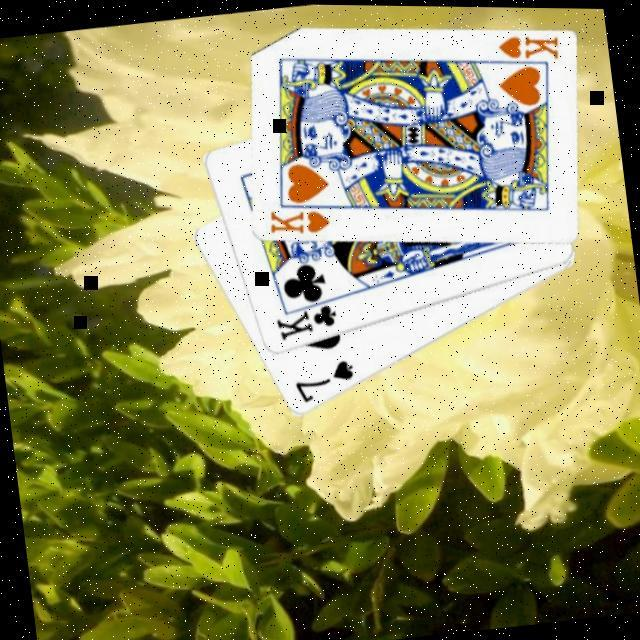7S: (288, 354, 359, 408)
KC: (269, 292, 344, 345)
KH: (492, 27, 562, 69), (264, 201, 333, 242)
